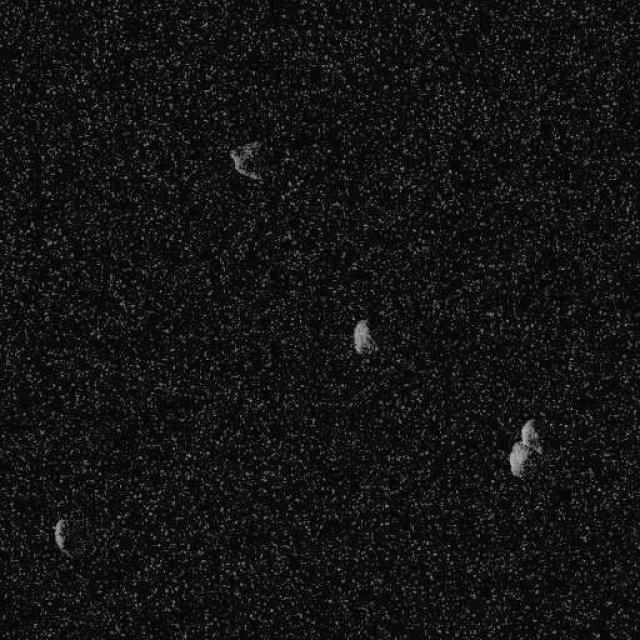D2: (507, 418, 542, 478), (227, 138, 265, 182), (352, 317, 378, 355), (52, 516, 68, 552)
